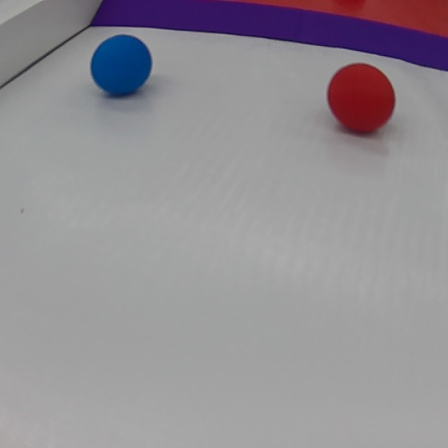blue: (86, 37, 154, 100)
red: (323, 60, 400, 137)
red_aim: (89, 0, 445, 82)
